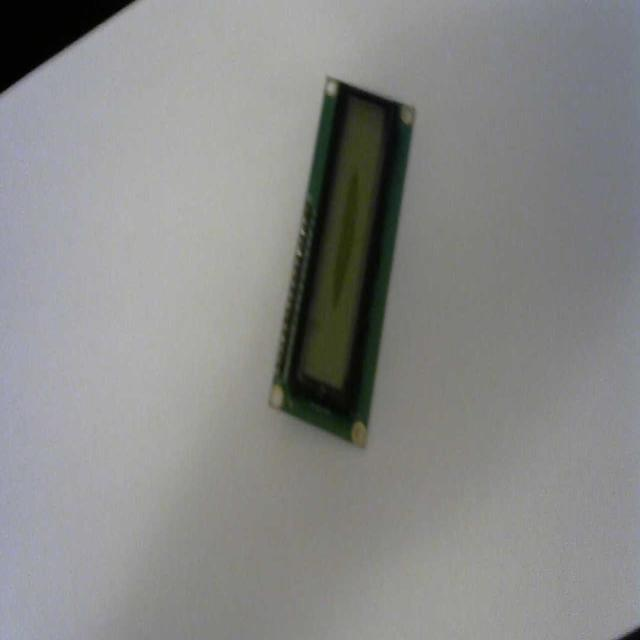lcd: (267, 73, 417, 449)
